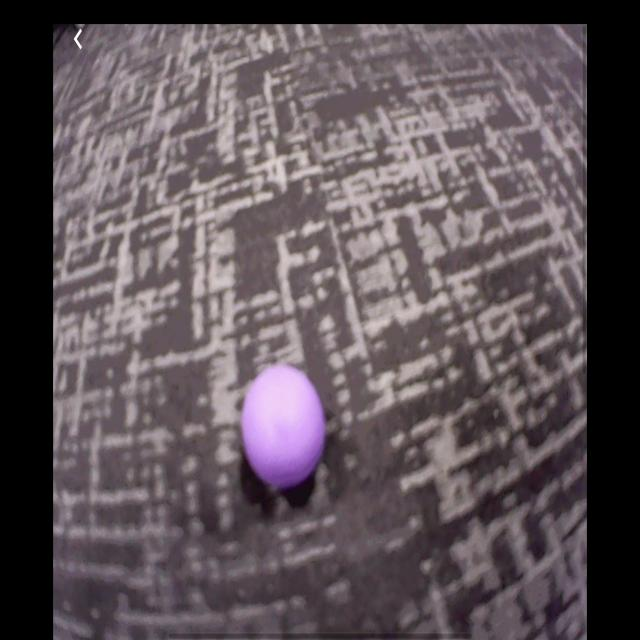ball: (240, 365, 324, 483)
